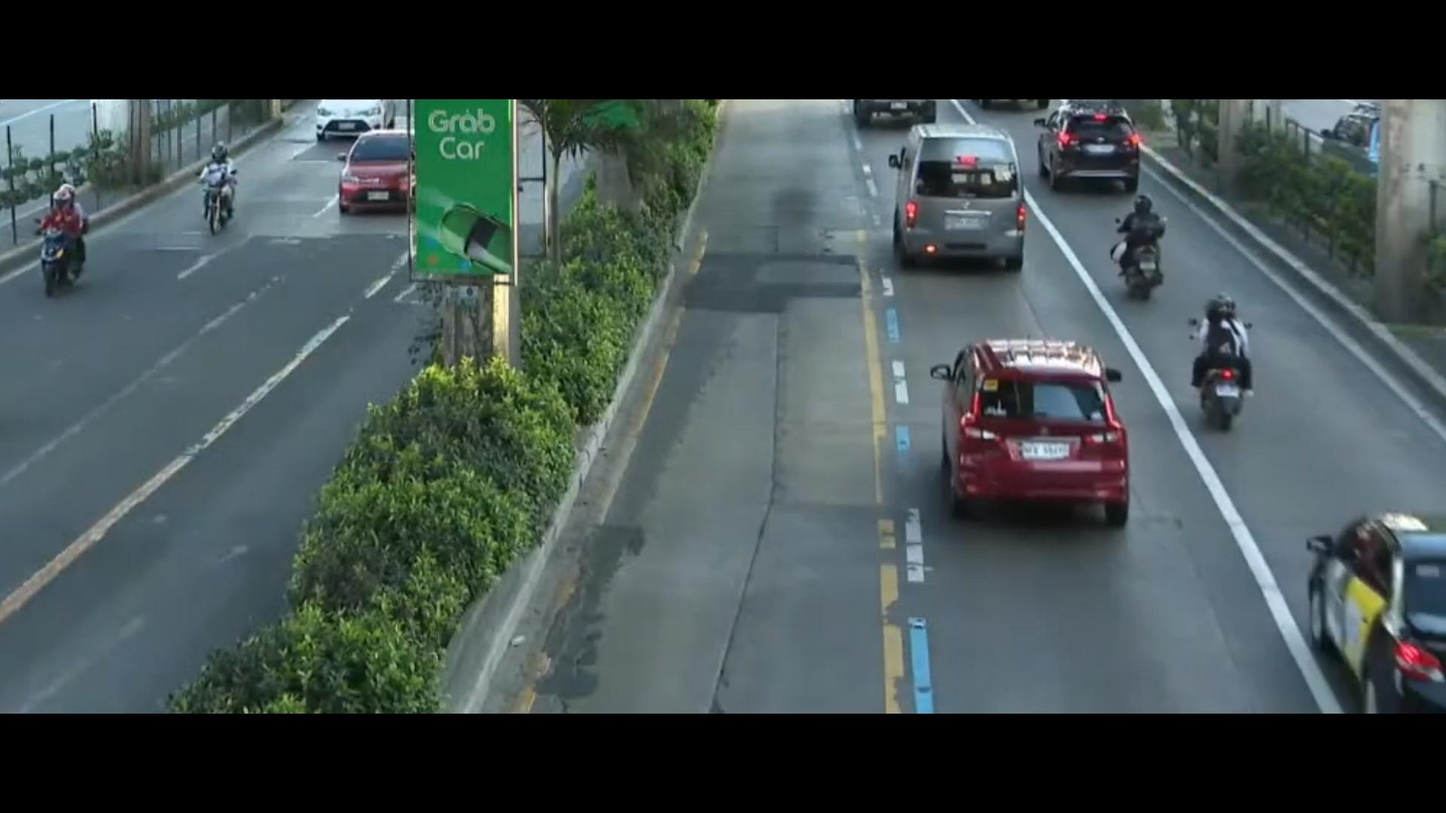Motorcycle: (1172, 290, 1288, 448), (26, 157, 111, 310), (1091, 183, 1182, 304), (182, 136, 253, 251)
SUV: (891, 300, 1158, 552), (1035, 98, 1171, 209)
Sedan: (1279, 484, 1446, 716), (332, 119, 425, 218)
Van: (882, 102, 1038, 283)
